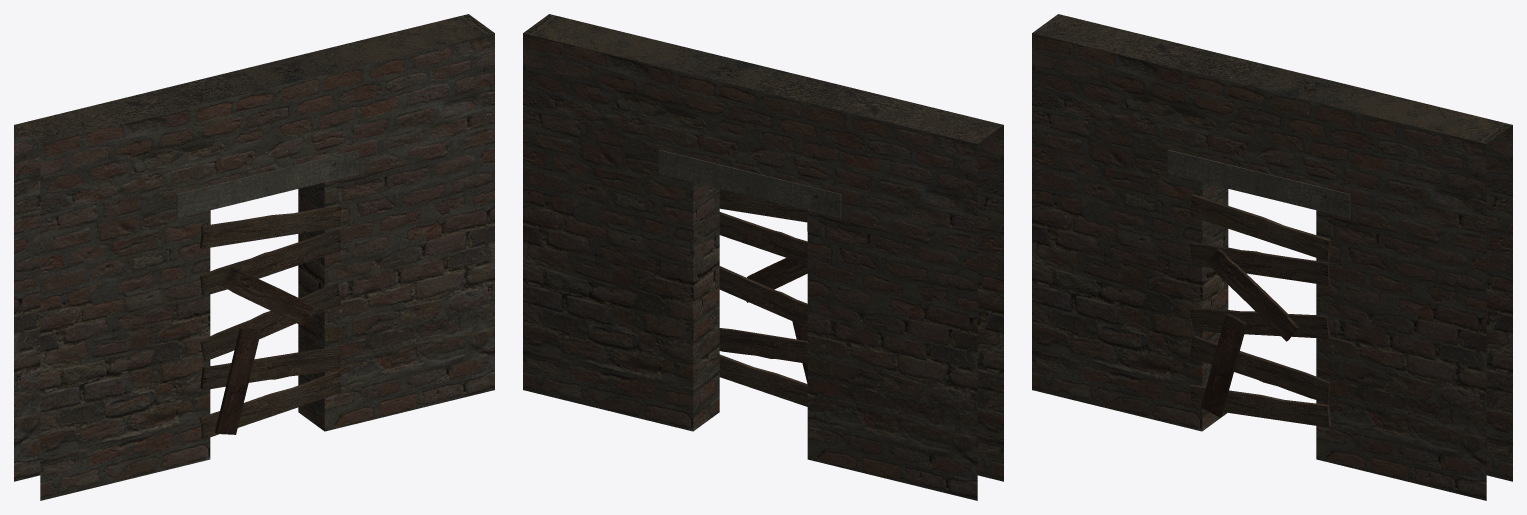
File: doorway_hr_3_regular.dae
3 views of the same model, side by side, from view 1: azimuth 30°, elevation 25°; view 2: azimuth 150°, elevation 25°; view 3: azimuth 330°, elevation 25° (orthographic).
Visible parts, largest first — view 1: doorway_hr_3_regular; view 2: doorway_hr_3_regular; view 3: doorway_hr_3_regular.
Part boxes in pixels (left/top/right/bottom): doorway_hr_3_regular: left=14, top=14, right=494, bottom=500; doorway_hr_3_regular: left=523, top=14, right=1003, bottom=500; doorway_hr_3_regular: left=1032, top=14, right=1512, bottom=500.
Size of the model in its own units: 4 by 0.47 by 3.
Materials: 4 (4 with a texture image).
